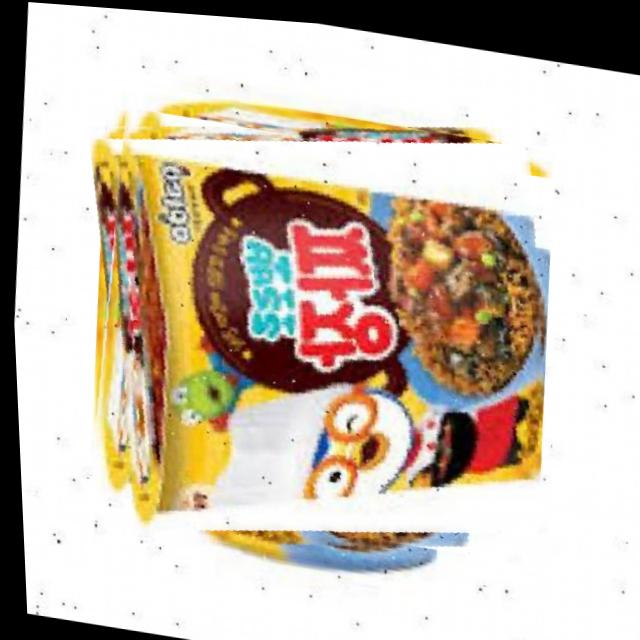Miscellaneous: (65, 74, 568, 588)
